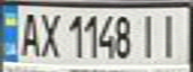1: (63, 11, 84, 58), (81, 11, 100, 58)
4: (97, 11, 118, 60)
8: (112, 11, 136, 60)
A: (15, 8, 42, 59)
I: (154, 10, 187, 60), (136, 10, 163, 60)
X: (36, 9, 63, 60)
